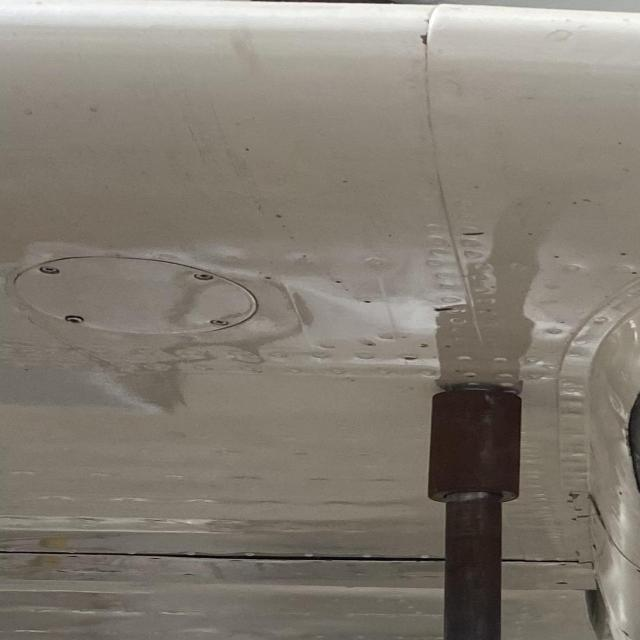Paint-off: (537, 21, 575, 49), (416, 31, 430, 46)
